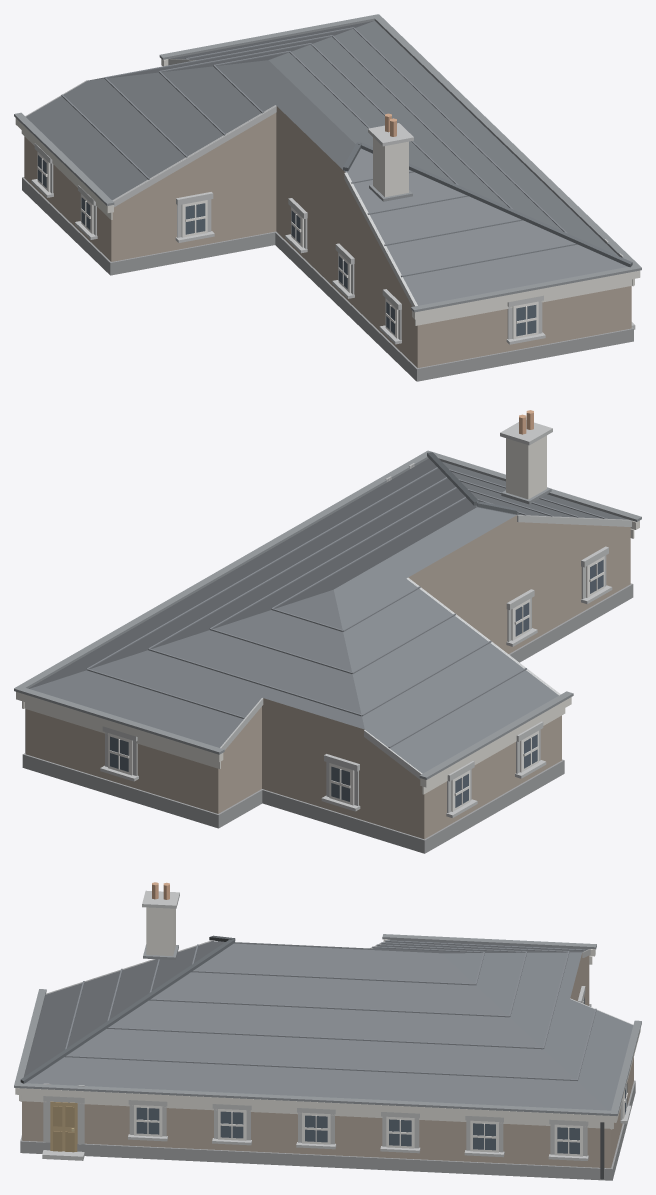
3 renders of one model, top to bottom at view 1: azimuth 30°, elevation 25°; view 2: azimuth 150°, elevation 25°; view 3: azimuth 270°, elevation 25°, orthographic. The views are drawn at different scales.
Visible parts, largest first — view 1: slate, harl_brown, plinth, stone_band, lead, slate_lt, string, frame, slate_dk, chim_render, window_glass_010, window_glass_015; view 2: slate, harl_brown, plinth, lead, stone_band, slate_lt, string, frame, chim_render, slate_dk; view 3: slate, harl_brown, plinth, string, stone_band, lead, slate_lt, frame, slate_dk, chim_render, door_wood_p, door_wood (+6 smaller).
Part boxes in pixels (x1=…): slate: x1=26, y1=20, x2=627, y2=305; harl_brown: x1=24, y1=106, x2=631, y2=367; plinth: x1=22, y1=177, x2=633, y2=381; stone_band: x1=25, y1=58, x2=635, y2=344; lead: x1=14, y1=14, x2=641, y2=312; slate_lt: x1=61, y1=27, x2=577, y2=277; string: x1=15, y1=59, x2=640, y2=325; frame: x1=37, y1=152, x2=538, y2=339; slate_dk: x1=343, y1=142, x2=632, y2=267; chim_render: x1=373, y1=137, x2=408, y2=197; window_glass_010: x1=516, y1=305, x2=536, y2=336; window_glass_015: x1=185, y1=203, x2=205, y2=234; slate: x1=28, y1=458, x2=627, y2=773; harl_brown: x1=25, y1=515, x2=630, y2=839; plinth: x1=22, y1=583, x2=633, y2=853; lead: x1=14, y1=450, x2=641, y2=779; stone_band: x1=100, y1=420, x2=631, y2=818; slate_lt: x1=86, y1=467, x2=604, y2=748; string: x1=16, y1=520, x2=639, y2=794; frame: x1=108, y1=556, x2=604, y2=811; chim_render: x1=506, y1=435, x2=546, y2=499; slate_dk: x1=427, y1=452, x2=517, y2=514; slate: x1=24, y1=939, x2=633, y2=1110; harl_brown: x1=22, y1=953, x2=633, y2=1168; plinth: x1=20, y1=1004, x2=635, y2=1180; string: x1=15, y1=939, x2=640, y2=1129; stone_band: x1=42, y1=890, x2=633, y2=1160; lead: x1=14, y1=934, x2=641, y2=1115; slate_lt: x1=65, y1=940, x2=596, y2=1080; frame: x1=134, y1=997, x2=627, y2=1156; slate_dk: x1=20, y1=935, x2=235, y2=1083; chim_render: x1=146, y1=907, x2=175, y2=956; door_wood_p: x1=53, y1=1106, x2=74, y2=1152; door_wood: x1=50, y1=1101, x2=77, y2=1151.
Bounding box in the file's own units: 14.92 × 7.48 × 21.99.
